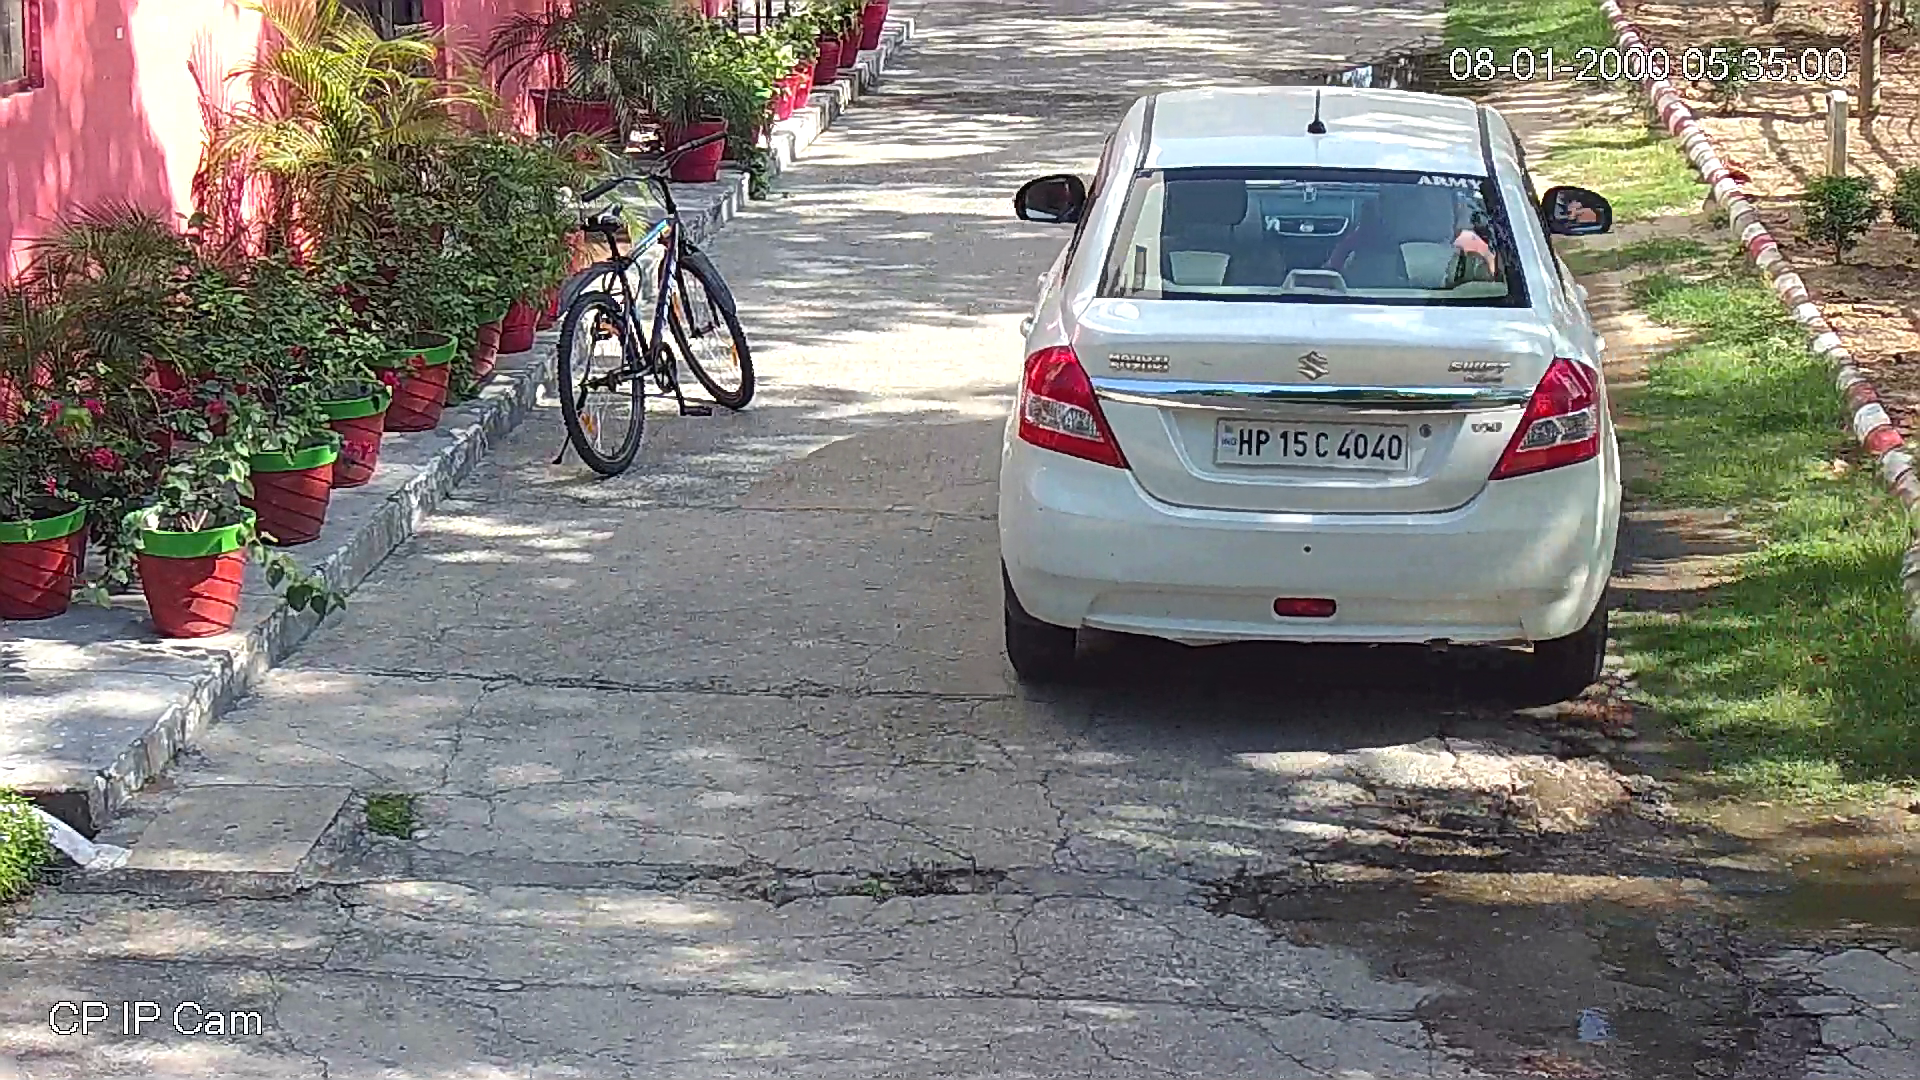plate: (1206, 410, 1415, 474)
